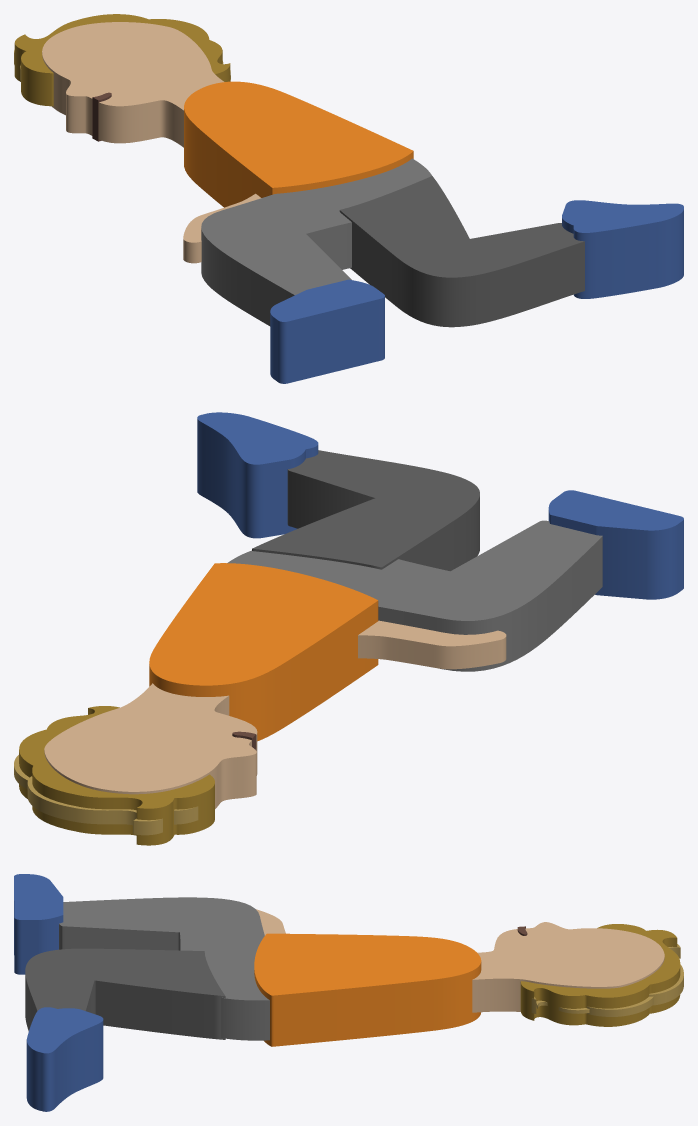
File: emoji_u1f9ce_1f3fc.glb
The picture shows the model from 3 angles, top to bottom: view 1: azimuth 30°, elevation 25°; view 2: azimuth 150°, elevation 25°; view 3: azimuth 270°, elevation 25°; orthographic projection. The views are drawn at different scales.
Visible parts, largest first — view 1: emoji_u1f9ce_1f3fc; view 2: emoji_u1f9ce_1f3fc; view 3: emoji_u1f9ce_1f3fc.
Part boxes in pixels (x1,y1,x2,y2): emoji_u1f9ce_1f3fc: (14,14,683,383); emoji_u1f9ce_1f3fc: (14,412,683,845); emoji_u1f9ce_1f3fc: (14,874,683,1111).
Bounding box in the file's own units: 0.0213 × 0.0032 × 0.0332.
